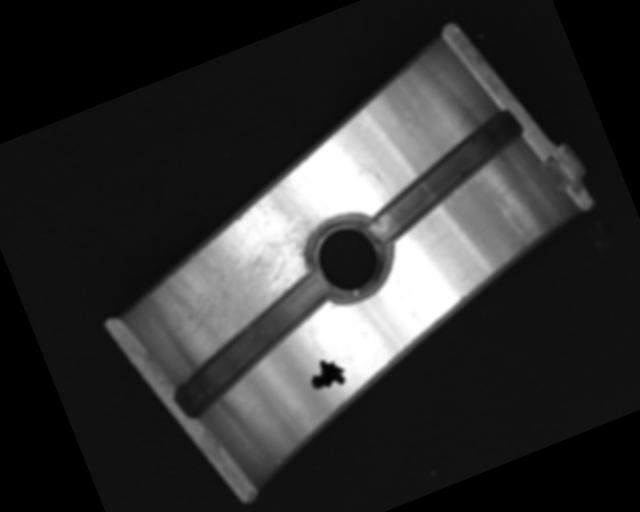blot: (302, 350, 351, 397)
gap: (155, 271, 352, 419), (347, 105, 541, 246)
hole: (295, 203, 403, 317)
nick: (494, 195, 531, 248)
scratch: (128, 162, 357, 365)
